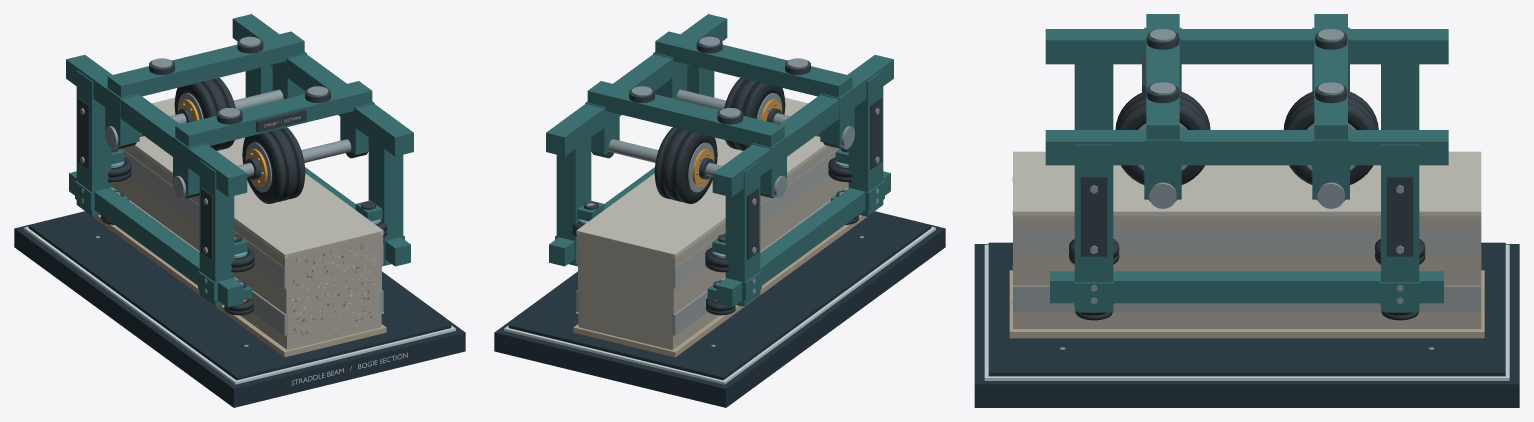
The model's file is straddle-beam-monorail-bogie-cutaway.glb.
The picture shows the model from 3 angles, left to right: view 1: azimuth 30°, elevation 25°; view 2: azimuth 150°, elevation 25°; view 3: azimuth 270°, elevation 25°; orthographic projection. The views are drawn at different scales.
Visible parts, largest first — view 1: Top exhibition inset, Independent exhibition plinth, Beam concrete core, Flat TOP load running surface, Saddle cross brace +0.415, Continuous outer saddle header, Continuous outer saddle header.001, Saddle cross brace -0.415, Lower bogie outer longitudinal side sills, Recessed middle side concrete -1, Continuous side cheek leg between header and sill, TOP_LOAD_TYRE_-0.415 (+22 smaller); view 2: Top exhibition inset, Independent exhibition plinth, Beam concrete core, Flat TOP load running surface, Saddle cross brace +0.415, Saddle cross brace -0.415, Continuous outer saddle header, Continuous outer saddle header.001, Lower bogie outer longitudinal side sills, Recessed middle side concrete -1, Continuous side cheek leg between header and sill.001, TOP_LOAD_TYRE_+0.415 (+20 smaller); view 3: Top exhibition inset, Independent exhibition plinth, Flat TOP load running surface, Continuous outer saddle header, Lower bogie outer longitudinal side sills.001, Continuous outer saddle header.001, Flat SIDE guide running surface 1, Recessed middle side concrete 1, Lower concrete beam foot cheek 1, Flat SIDE stabilizer running surface 1, Independent display beam bearer, Bevel shoulder surface 1 (+17 smaller).
Part boxes in pixels (<box>): Top exhibition inset: <box>28,211,451,380</box>; Independent exhibition plinth: <box>14,211,465,407</box>; Beam concrete core: <box>288,232,380,349</box>; Flat TOP load running surface: <box>131,97,383,258</box>; Saddle cross brace +0.415: <box>107,31,304,97</box>; Continuous outer saddle header: <box>66,54,247,197</box>; Continuous outer saddle header.001: <box>232,14,413,156</box>; Saddle cross brace -0.415: <box>175,81,372,146</box>; Lower bogie outer longitudinal side sills: <box>69,171,243,307</box>; Recessed middle side concrete -1: <box>111,176,287,314</box>; Continuous side cheek leg between header and sill: <box>199,160,234,306</box>; TOP_LOAD_TYRE_-0.415: <box>242,127,305,203</box>; Top exhibition inset: <box>508,211,931,380</box>; Independent exhibition plinth: <box>494,211,945,407</box>; Beam concrete core: <box>579,232,671,349</box>; Flat TOP load running surface: <box>576,97,828,258</box>; Saddle cross brace +0.415: <box>587,81,784,146</box>; Saddle cross brace -0.415: <box>655,31,852,97</box>; Continuous outer saddle header: <box>712,54,893,197</box>; Continuous outer saddle header.001: <box>546,14,727,156</box>; Lower bogie outer longitudinal side sills: <box>716,171,890,307</box>; Recessed middle side concrete -1: <box>672,176,848,314</box>; Continuous side cheek leg between header and sill.001: <box>725,160,760,306</box>; TOP_LOAD_TYRE_+0.415: <box>654,127,717,203</box>; Top exhibition inset: <box>988,242,1505,376</box>; Independent exhibition plinth: <box>974,244,1519,407</box>; Flat TOP load running surface: <box>1013,151,1481,216</box>; Continuous outer saddle header: <box>1045,29,1448,64</box>; Lower bogie outer longitudinal side sills.001: <box>1050,271,1443,303</box>; Continuous outer saddle header.001: <box>1045,130,1448,165</box>; Flat SIDE guide running surface 1: <box>1013,228,1481,253</box>; Recessed middle side concrete 1: <box>1013,254,1481,285</box>; Lower concrete beam foot cheek 1: <box>1013,312,1481,328</box>; Flat SIDE stabilizer running surface 1: <box>1013,285,1481,312</box>; Independent display beam bearer: <box>1009,270,1484,338</box>; Bevel shoulder surface 1: <box>1013,216,1481,228</box>.
Size of the model in its own units: 1.64 by 1.51 by 2.69.
